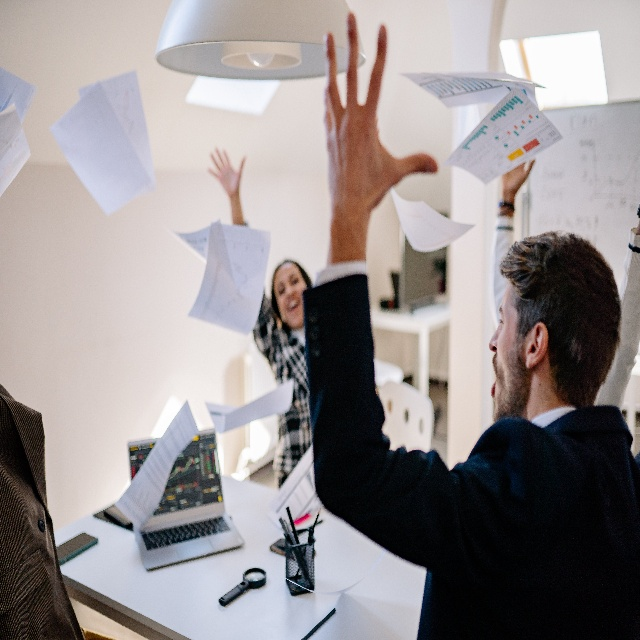Sin_guantes: (317, 11, 437, 252), (208, 146, 248, 197), (501, 157, 537, 199)
